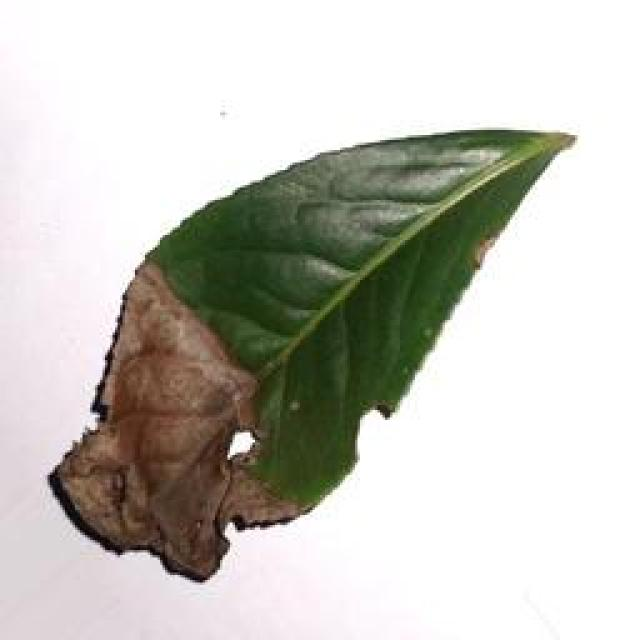Brown Blight: (44, 118, 584, 581)
